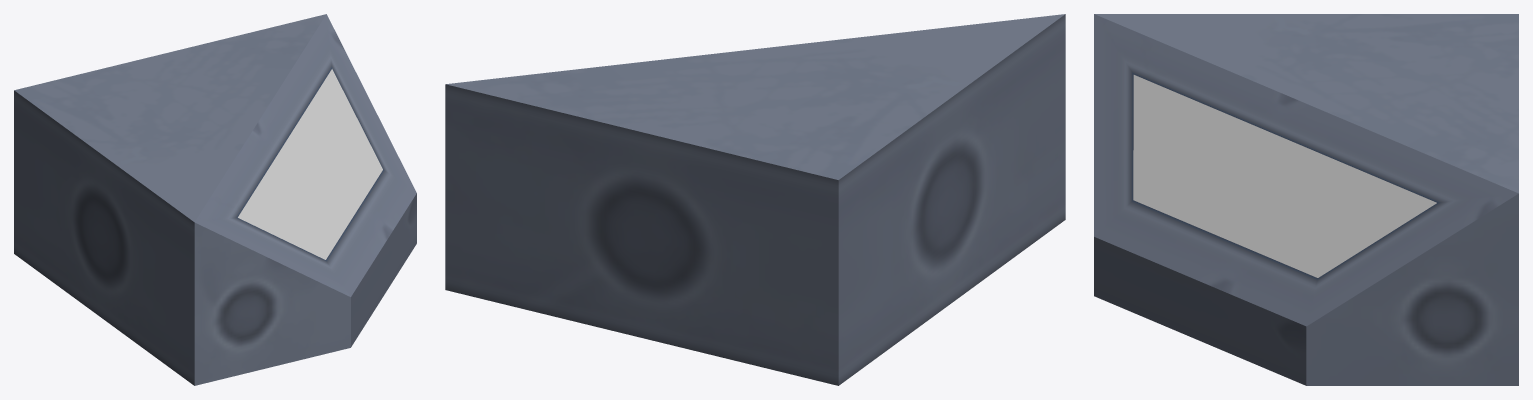
Rendered from obj_spaceship_frame04.fbx.
The picture shows the model from 3 angles, left to right: view 1: azimuth 30°, elevation 25°; view 2: azimuth 150°, elevation 25°; view 3: azimuth 270°, elevation 25°; orthographic projection. The views are drawn at different scales.
Visible parts, largest first — view 1: polySurface259; view 2: polySurface259; view 3: polySurface259.
Part boxes in pixels (<box>): polySurface259: <box>14,14,416,385</box>; polySurface259: <box>445,14,1065,385</box>; polySurface259: <box>1094,14,1518,385</box>.
Size of the model in its own units: 2 by 1 by 2.
